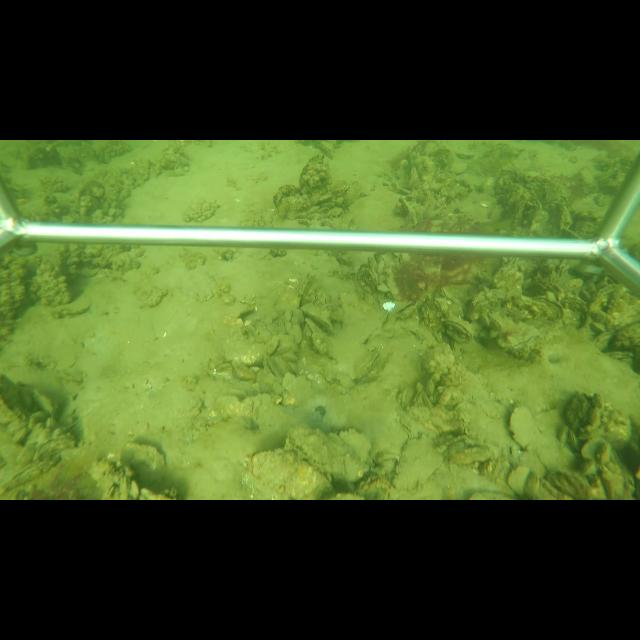Oyster-Closed: (285, 426, 376, 481), (245, 449, 336, 498), (507, 404, 572, 466), (386, 432, 446, 498), (119, 439, 167, 486), (444, 316, 474, 342), (306, 317, 325, 356), (530, 298, 563, 320), (261, 356, 285, 382), (399, 417, 419, 439), (588, 406, 603, 430), (409, 158, 420, 185), (592, 392, 606, 411), (490, 315, 504, 331)
Oyster-Open: (396, 296, 425, 319)
